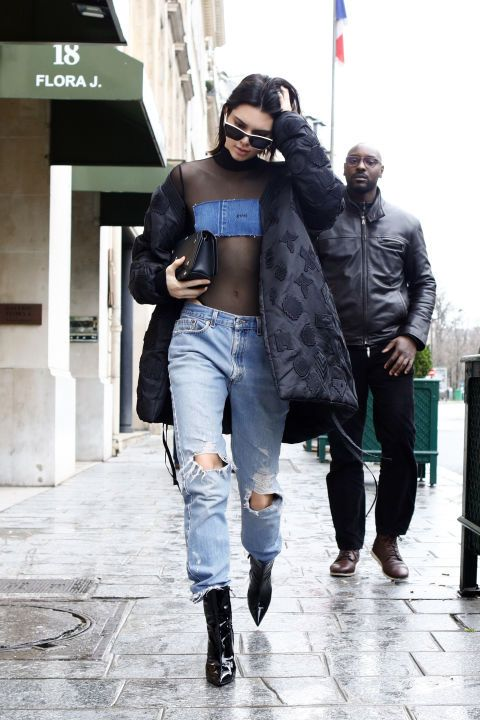Person: (129, 73, 345, 687), (318, 142, 437, 582)
